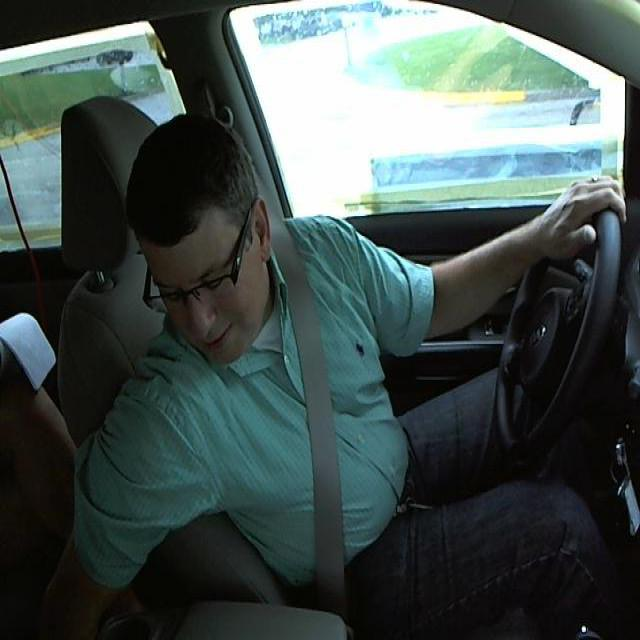seatbelt: (291, 300, 363, 495)
